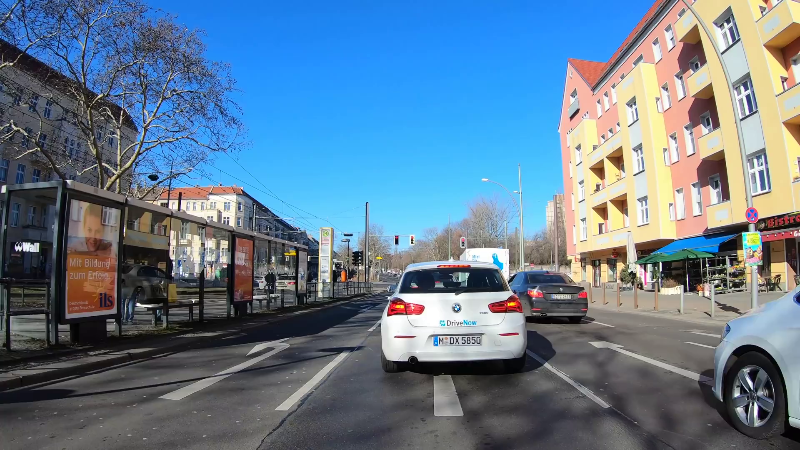Plate: (431, 334, 484, 347)
